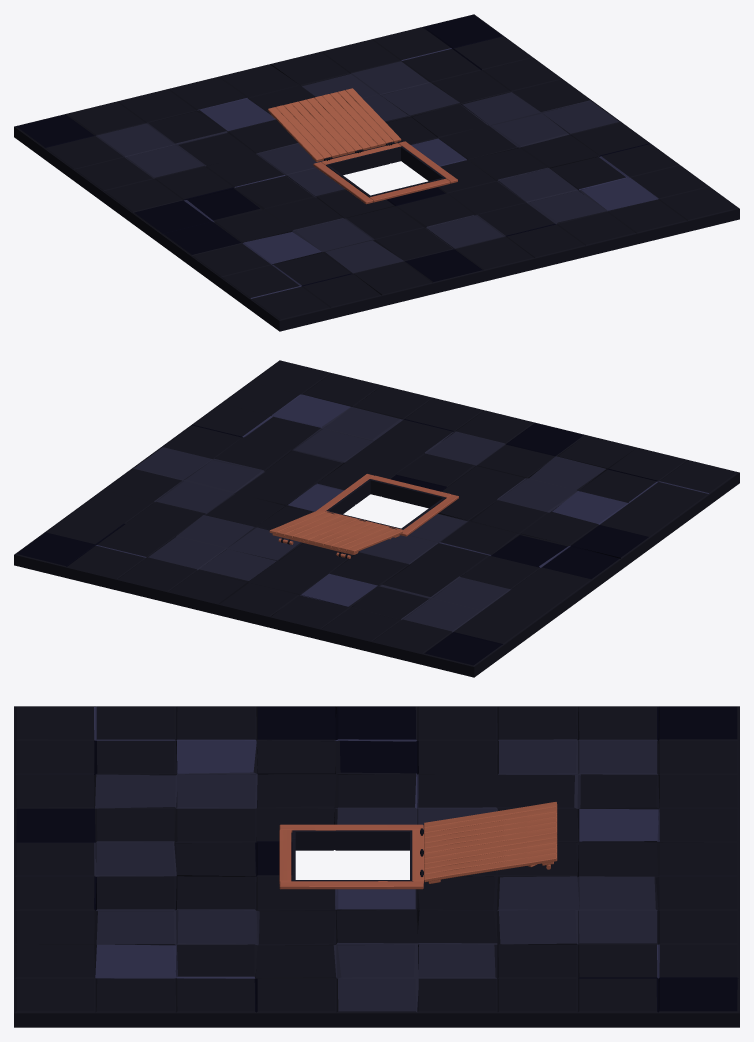
Rendered from floor with hatch open.fbx.
3 renders of one model, top to bottom at view 1: azimuth 30°, elevation 25°; view 2: azimuth 150°, elevation 25°; view 3: azimuth 270°, elevation 25°, orthographic. The views are drawn at different scales.
Visible parts, largest first — view 1: floor with hatch open; view 2: floor with hatch open; view 3: floor with hatch open.
Boxes of the visible parts, x1=… form: floor with hatch open: x1=14, y1=14, x2=739, y2=331; floor with hatch open: x1=14, y1=360, x2=739, y2=677; floor with hatch open: x1=14, y1=706, x2=739, y2=1027.
Size of the model in its own units: 600 by 40.93 by 600.
